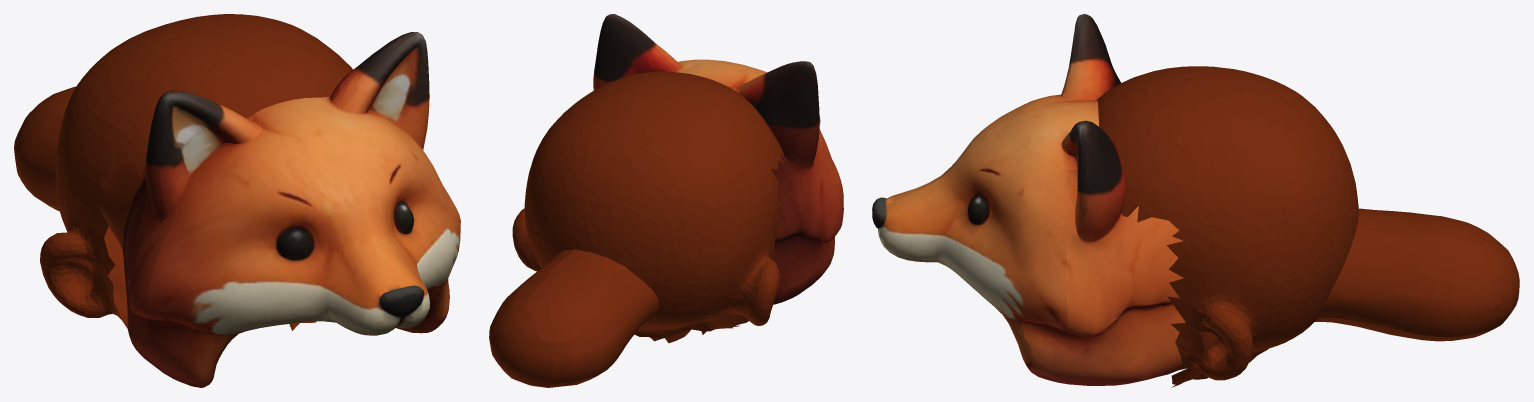
File: red-fox.glb
The picture shows the model from 3 angles, left to right: view 1: azimuth 30°, elevation 25°; view 2: azimuth 150°, elevation 25°; view 3: azimuth 270°, elevation 25°; orthographic projection. The views are drawn at different scales.
Parts seen in each view (by area): view 1: geometry_0, HoodAnatomicalLining; view 2: HoodAnatomicalLining, geometry_0; view 3: geometry_0, HoodAnatomicalLining.
Part boxes in pixels (bbox=[...]): geometry_0: bbox=[14, 32, 460, 387]; HoodAnatomicalLining: bbox=[40, 14, 352, 330]; HoodAnatomicalLining: bbox=[512, 71, 784, 343]; geometry_0: bbox=[489, 14, 843, 387]; geometry_0: bbox=[872, 14, 1519, 385]; HoodAnatomicalLining: bbox=[1097, 66, 1358, 387].
Bounding box in the file's own units: 0.4688 × 0.4324 × 0.8677.
Materials: 2 (1 with a texture image).
